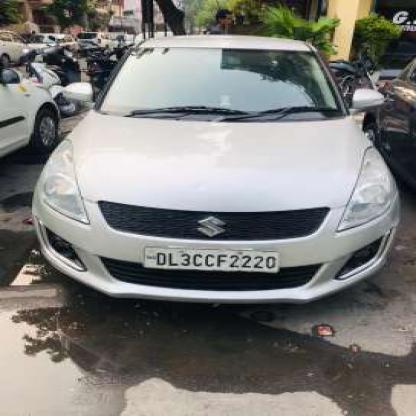license: (147, 245, 280, 278)
